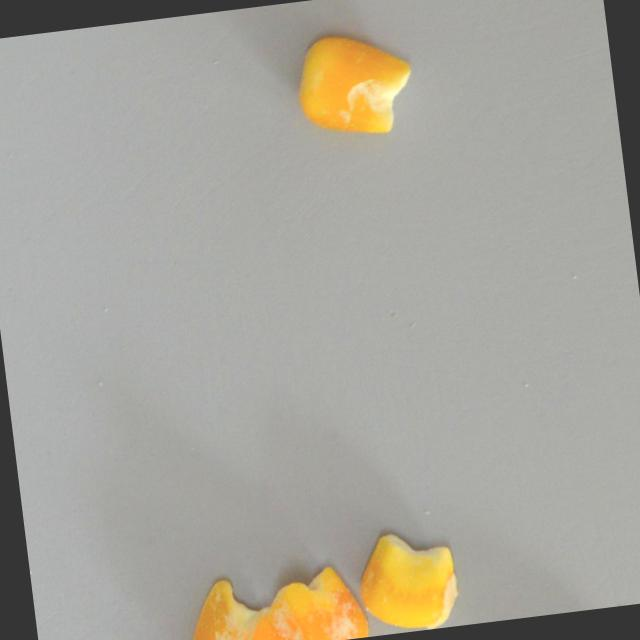no_canjicado: (288, 26, 415, 145)
pelicula: (354, 525, 460, 637), (261, 561, 367, 640), (180, 570, 290, 640)
